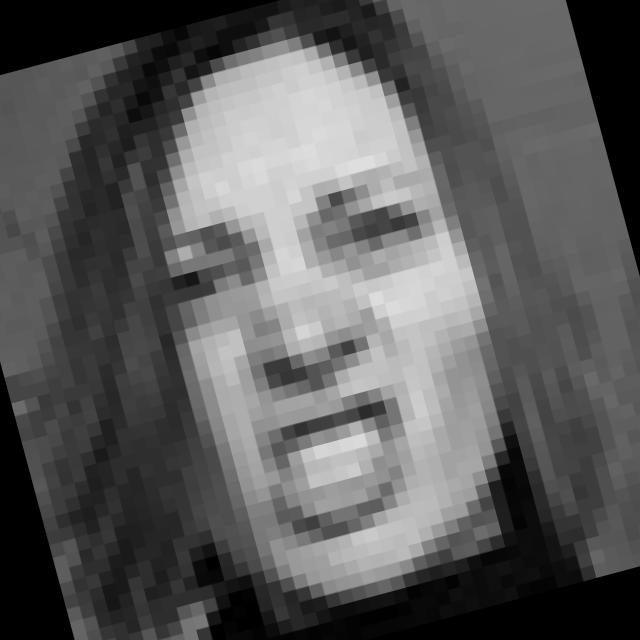angry: (144, 155, 509, 562)
